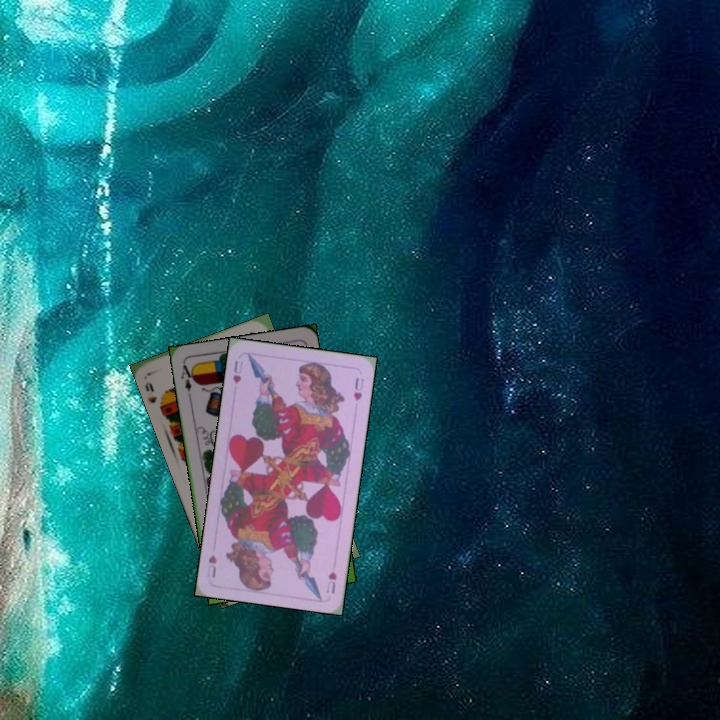EA: (177, 361, 197, 400)
HU: (322, 567, 339, 596), (229, 357, 245, 386)
S9: (141, 378, 168, 412)
